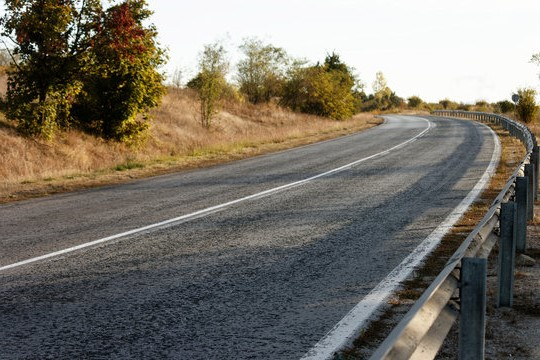leftTrun: (339, 94, 494, 204)
